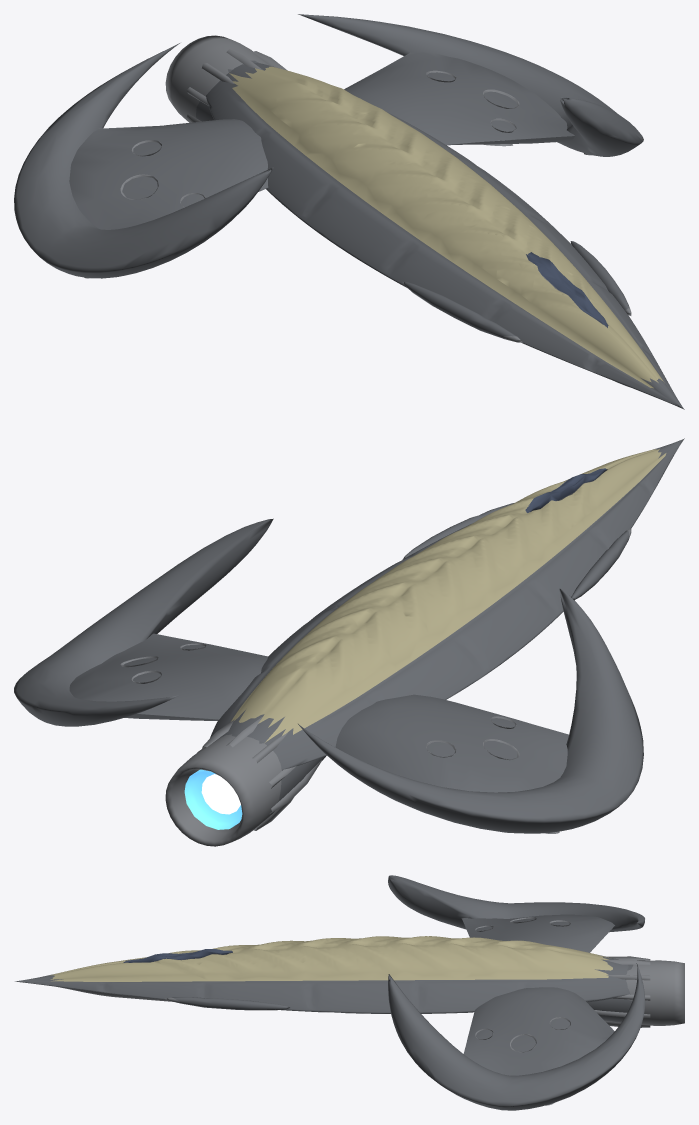
The model's file is MShip01.glb.
The picture shows the model from 3 angles, top to bottom: view 1: azimuth 30°, elevation 25°; view 2: azimuth 150°, elevation 25°; view 3: azimuth 270°, elevation 25°; orthographic projection. The views are drawn at different scales.
Visible parts, largest first — view 1: MShip01; view 2: MShip01; view 3: MShip01.
Part boxes in pixels (<box>): MShip01: <box>14,14,684,409</box>; MShip01: <box>14,438,684,846</box>; MShip01: <box>15,875,684,1110</box>.
Bounding box in the file's own units: 0.697 × 0.1647 × 1.
